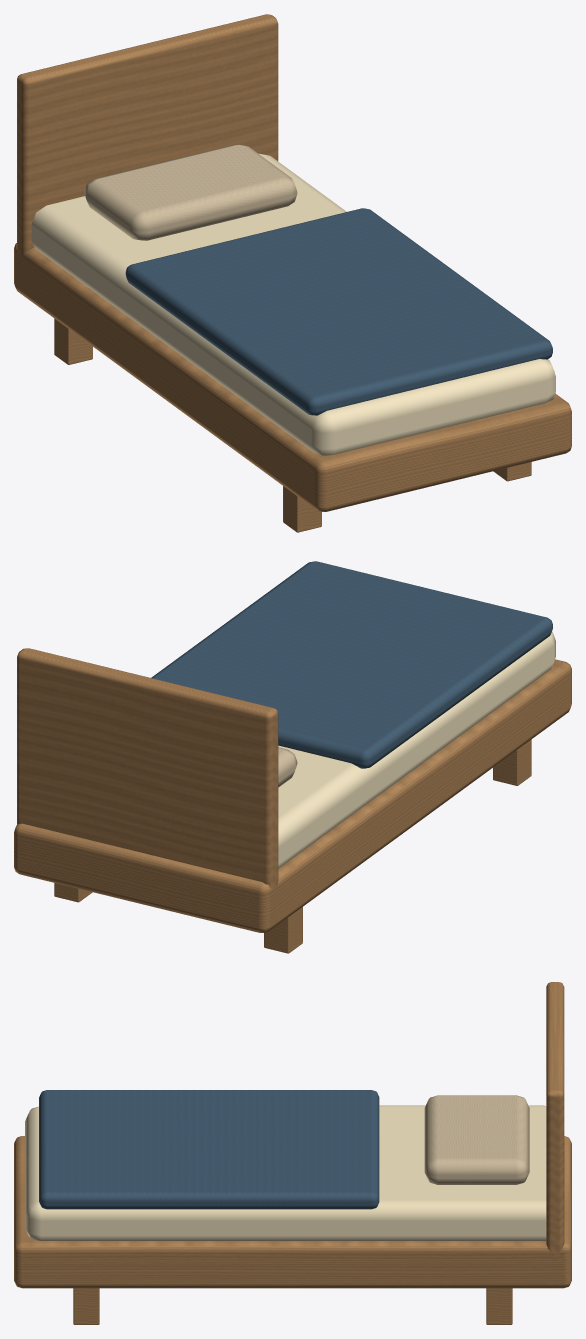
File: bed_single_campus-b7a51235c8e2.glb
The picture shows the model from 3 angles, top to bottom: view 1: azimuth 30°, elevation 25°; view 2: azimuth 150°, elevation 25°; view 3: azimuth 270°, elevation 25°; orthographic projection. The views are drawn at different scales.
Visible parts, largest first — view 1: surface_oak, surface_denim, surface_ivory, surface_linen; view 2: surface_oak, surface_denim, surface_ivory, surface_linen; view 3: surface_denim, surface_oak, surface_ivory, surface_linen.
Part boxes in pixels (left/top/right/bottom): surface_oak: left=14, top=14, right=571, bottom=532; surface_denim: left=125, top=208, right=552, bottom=415; surface_ivory: left=31, top=153, right=555, bottom=455; surface_linen: left=84, top=144, right=297, bottom=240; surface_oak: left=14, top=648, right=571, bottom=953; surface_denim: left=151, top=561, right=552, bottom=768; surface_ivory: left=278, top=631, right=555, bottom=868; surface_linen: left=278, top=747, right=297, bottom=787; surface_denim: left=39, top=1090, right=379, bottom=1209; surface_oak: left=14, top=982, right=571, bottom=1324; surface_ivory: left=25, top=1105, right=546, bottom=1240; surface_linen: left=424, top=1095, right=529, bottom=1184.
Size of the model in its own units: 0.9408 by 0.925 by 1.97.
4 materials, 3 textured.
